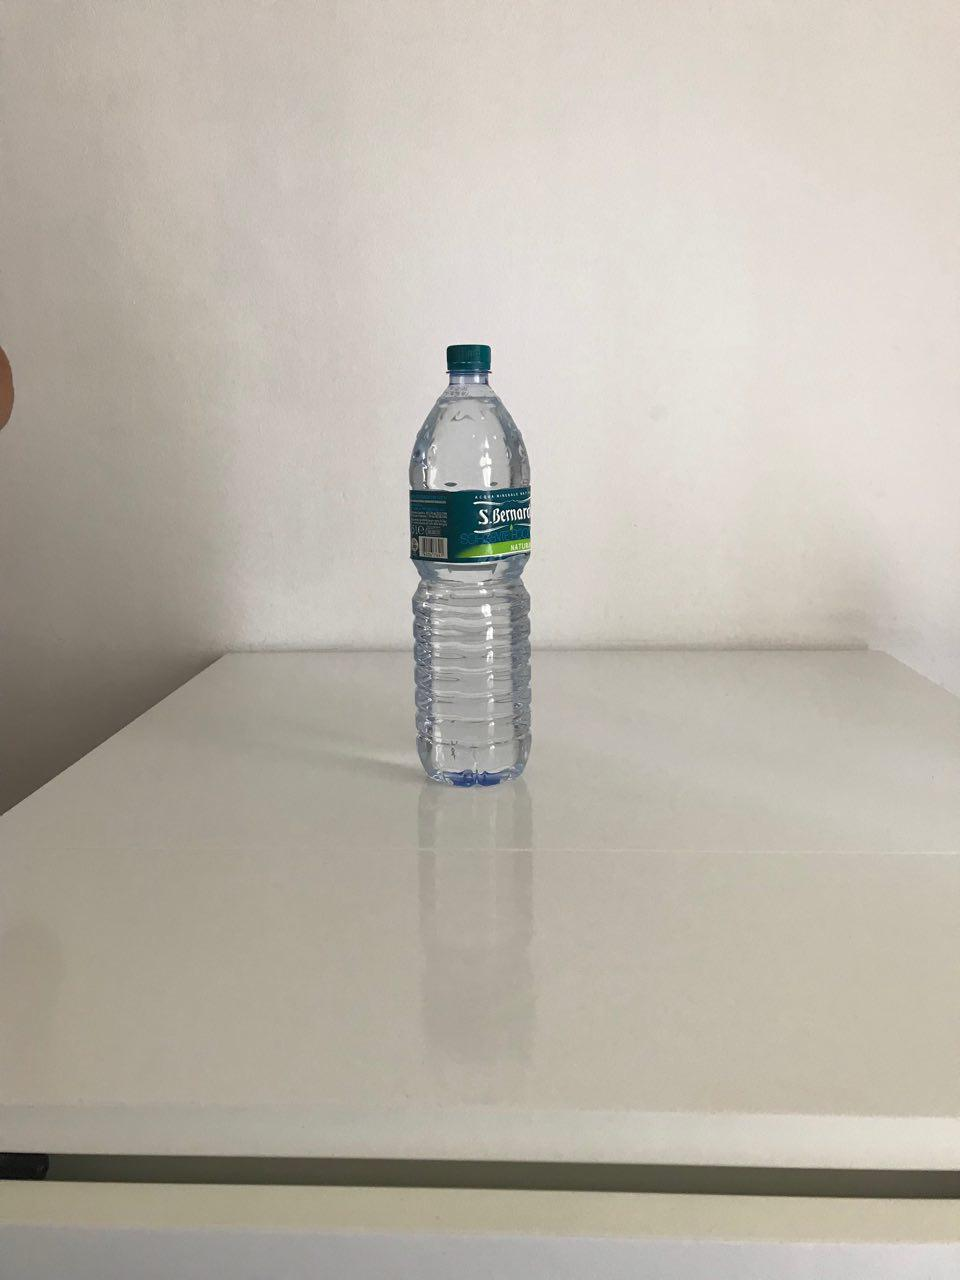san_bernardo: (406, 341, 535, 787)
